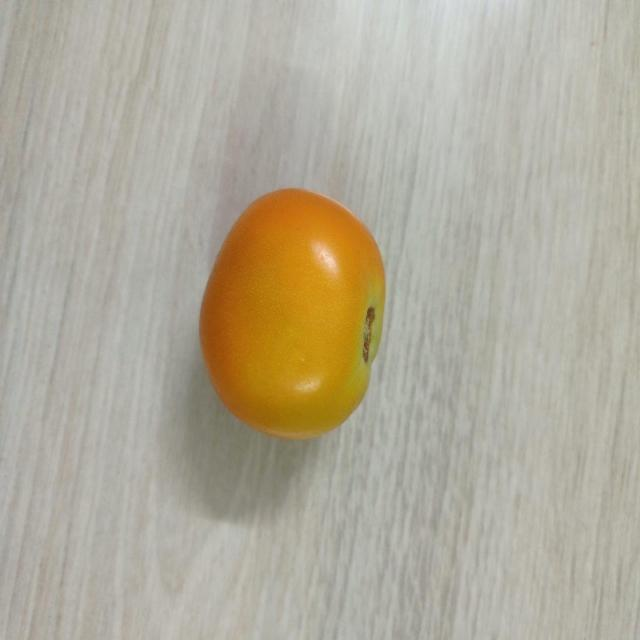Tomato: (196, 182, 390, 443)
